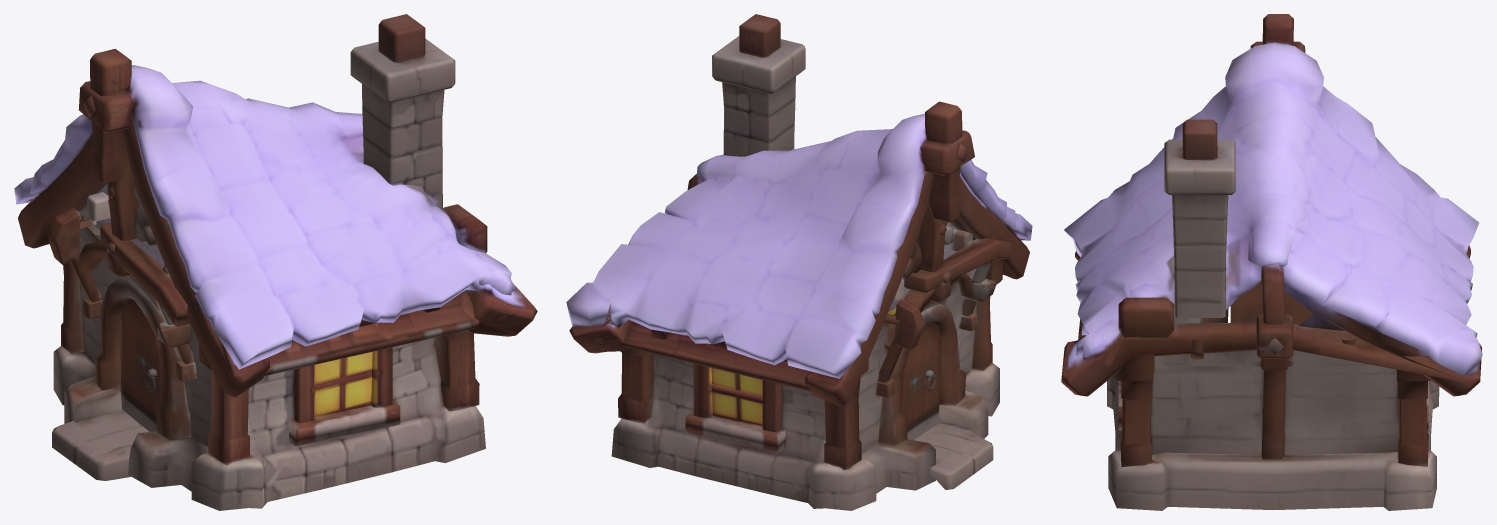
The model's file is candidate-middle.glb.
3 views of the same model, side by side, from view 1: azimuth 30°, elevation 25°; view 2: azimuth 150°, elevation 25°; view 3: azimuth 270°, elevation 25° (orthographic). The views are drawn at different scales.
Parts seen in each view (by area): view 1: UserCottage_middle; view 2: UserCottage_middle; view 3: UserCottage_middle.
Boxes of the visible parts, x1,y1,x2,y2 form: UserCottage_middle: (14,14,537,510); UserCottage_middle: (566,14,1032,510); UserCottage_middle: (1061,14,1482,510).
Size of the model in its own units: 0.2769 by 0.3037 by 0.3149.
Materials: 1 (1 with a texture image).
